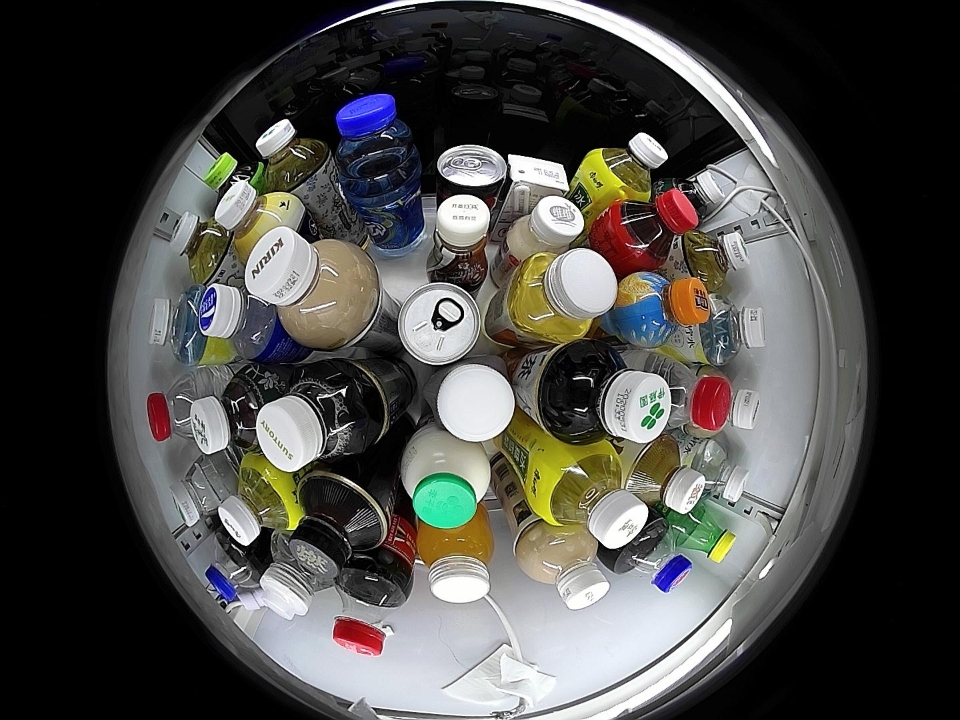asamu: (216, 182, 300, 255)
baicha: (256, 119, 330, 190), (169, 212, 233, 283), (680, 229, 750, 291)
baishikele-2: (614, 518, 693, 593), (205, 537, 265, 601)
baokuangli: (198, 283, 281, 362)
binghongcha: (610, 187, 698, 268)
bingtangxueli: (536, 445, 648, 550), (217, 456, 302, 546), (589, 131, 668, 202)
chapai2: (510, 248, 618, 343)
damaicha: (545, 344, 671, 445)
guolicheng: (617, 270, 709, 348)
jianjiao: (258, 539, 335, 621)
jindian: (506, 154, 570, 202)
kafei: (425, 194, 491, 284)
kele-b: (331, 567, 410, 657)
lingdukele: (435, 144, 508, 203)
liziyuan: (399, 429, 493, 529)
maidong: (333, 91, 419, 187)
moliqingcha: (190, 366, 276, 455), (665, 170, 728, 225)
nongfushanquan: (642, 355, 732, 435), (147, 371, 208, 443)
qinningshui: (151, 288, 213, 366), (698, 296, 767, 366), (689, 439, 750, 505)
rancha-1: (287, 472, 389, 577)
rancha-2: (625, 437, 705, 515)
weic: (416, 514, 493, 604)
weiweidounai: (508, 195, 586, 260)
wuhounaicha: (246, 229, 377, 349), (515, 521, 610, 611), (716, 370, 762, 433)
wulongcha: (257, 364, 373, 472)
xuebi-b: (674, 505, 737, 565)
yezhi: (397, 282, 484, 365)
yibao: (169, 455, 229, 527)
yitengyuan: (204, 152, 264, 206)
youyanggudong: (423, 355, 516, 441)
